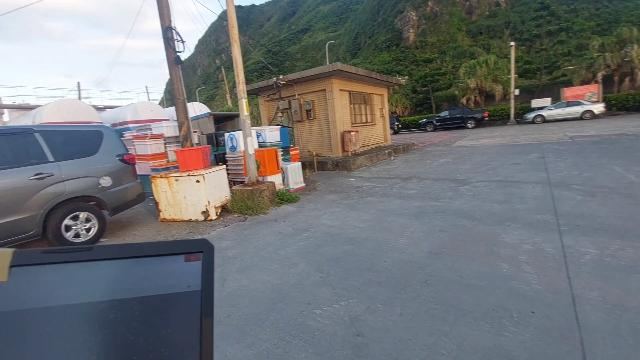pollute: (152, 164, 234, 221), (225, 129, 247, 182), (256, 150, 285, 188), (174, 145, 209, 173), (280, 161, 306, 192), (255, 126, 284, 149), (290, 147, 300, 162)
